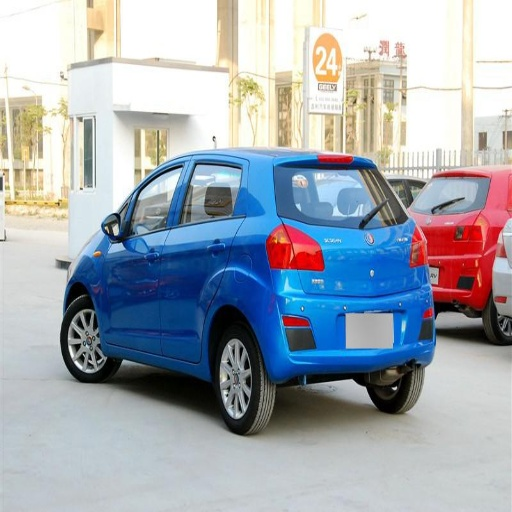back_bumper: (258, 271, 434, 380)
back_glass: (331, 178, 382, 221)
back_left_door: (162, 157, 241, 361)
trunk: (287, 222, 416, 345)
